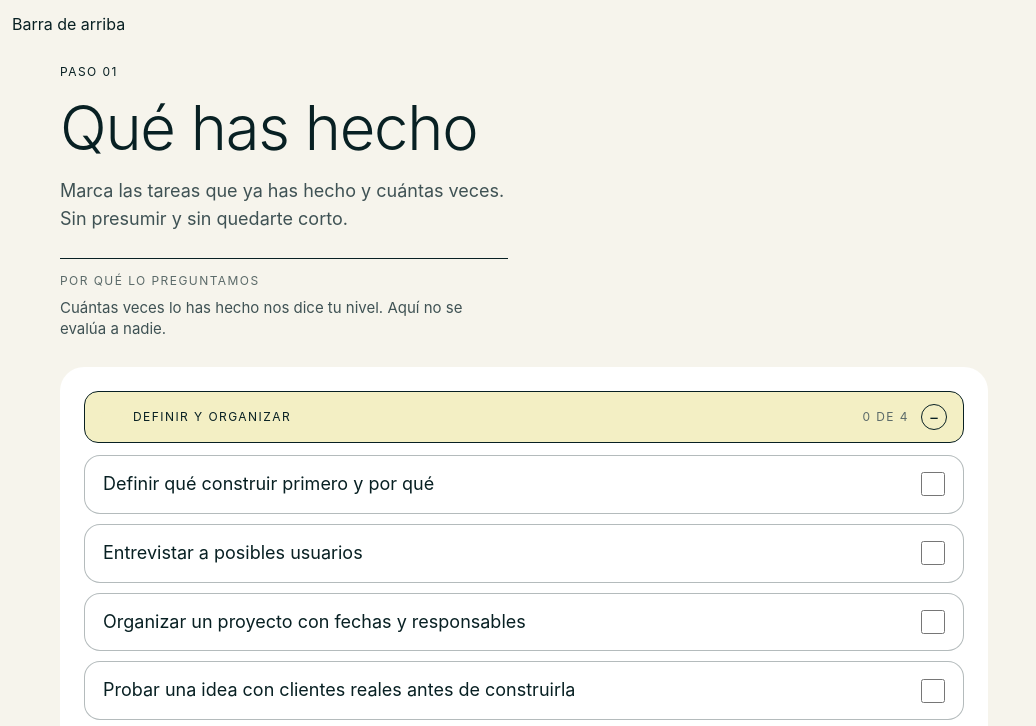
Test: TareasView › se puede cambiar cuántas veces la hizo, y las opciones tienen nombre accesible con la tarea
This screenshot has width=1036, height=726.
Click the checkbox labelled "Entrevistar a posibles usuarios": coordinates (933, 553) [921,541,945,565]
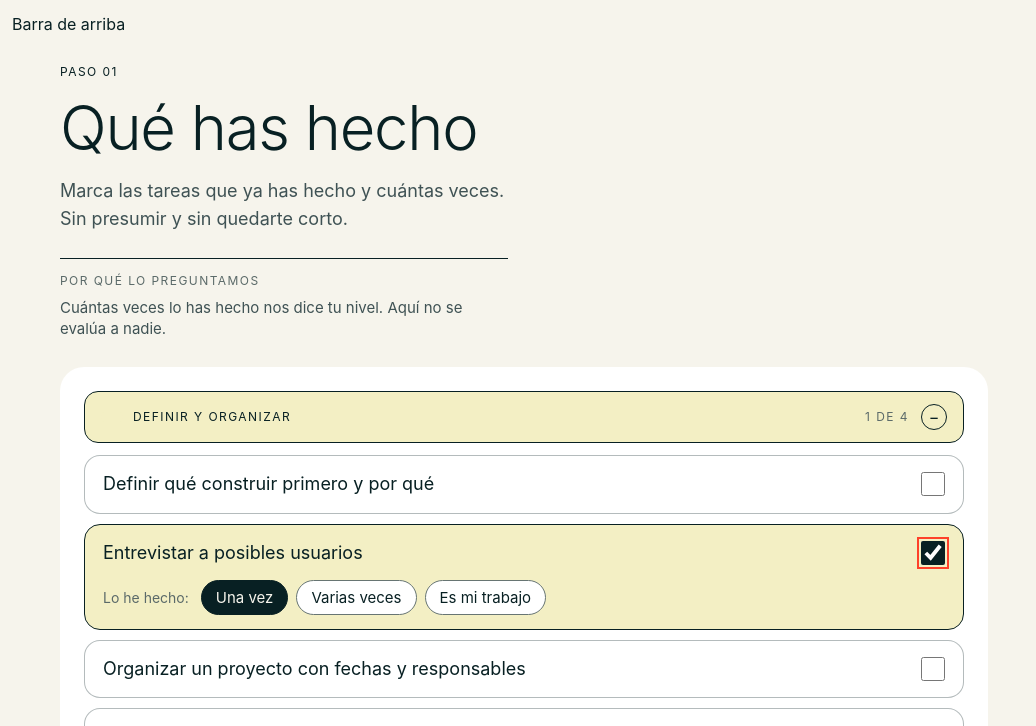
Now the element named "Cuántas veces: Entrevistar a posibles usuarios" is shown, box [102,580,546,619]
Click the radio button labelled "Es mi trabajo": coordinates (485, 597) [424,580,546,615]
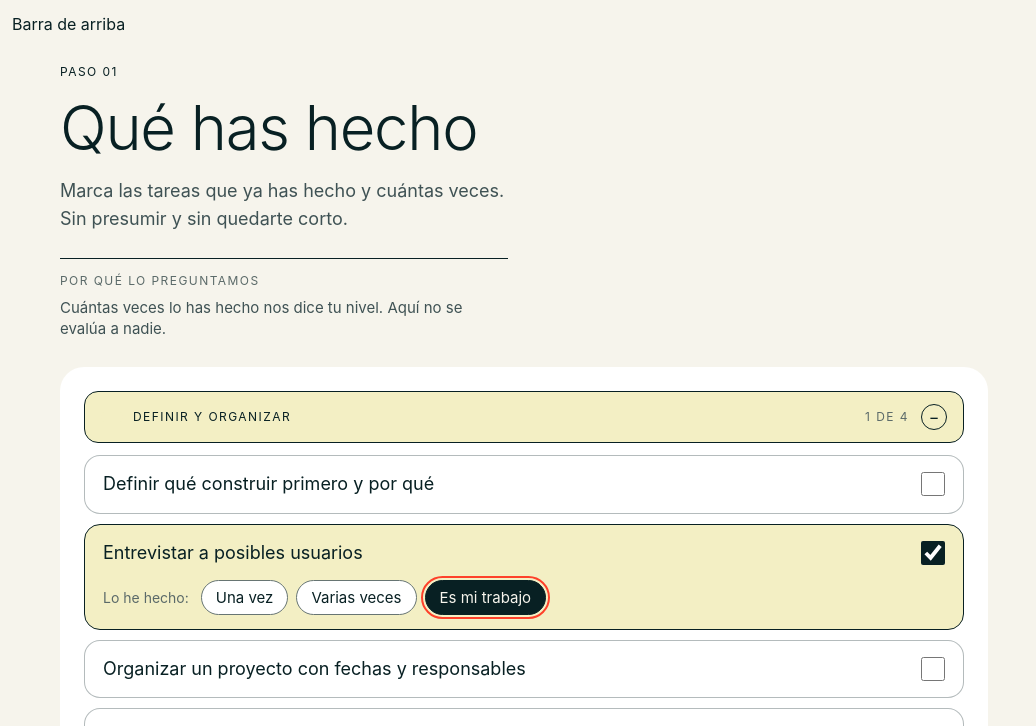
Now the radio button labelled "Es mi trabajo" is checked, box [424,580,546,615]
Now the radio button labelled "Una vez" is not checked, box [201,580,288,615]
